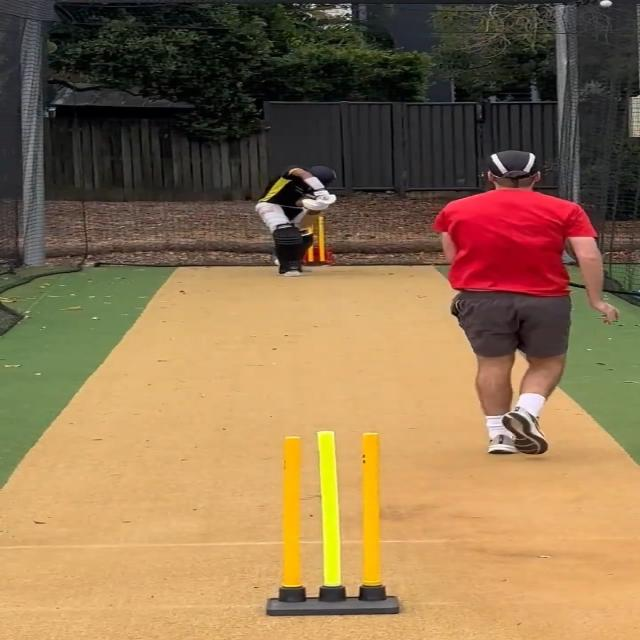ball: (597, 0, 613, 8)
stump: (264, 428, 400, 616)
